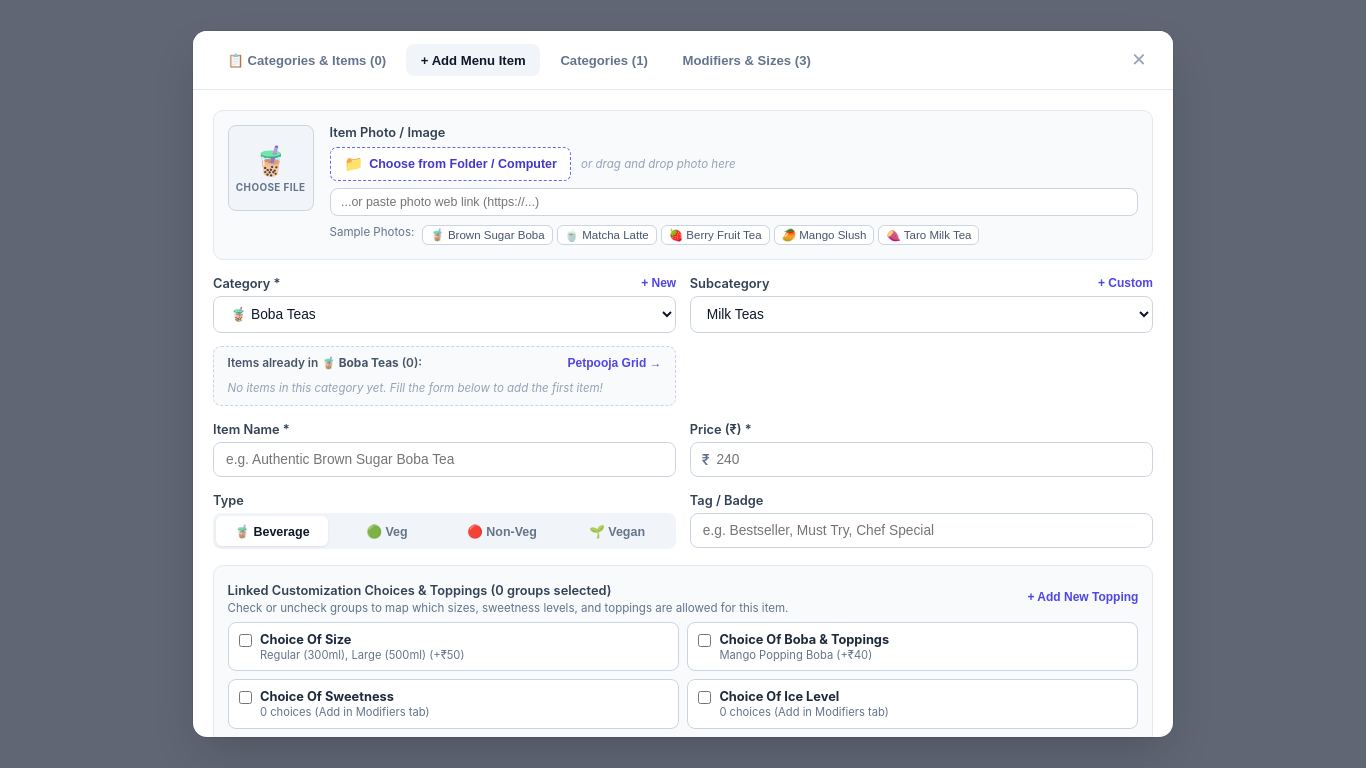
Test: AddProductModal Component (Minimal Production UI) › maps modifier groups when explicitly selected by the user
This screenshot has width=1366, height=768.
Later steps or results of the test are not shown.
Explicitly check "Choice Of Size"
Click the checkbox labelled "Choice Of Size Regular (300ml), Large (500ml) (+₹50)" at (246, 640), box [239, 634, 252, 646]
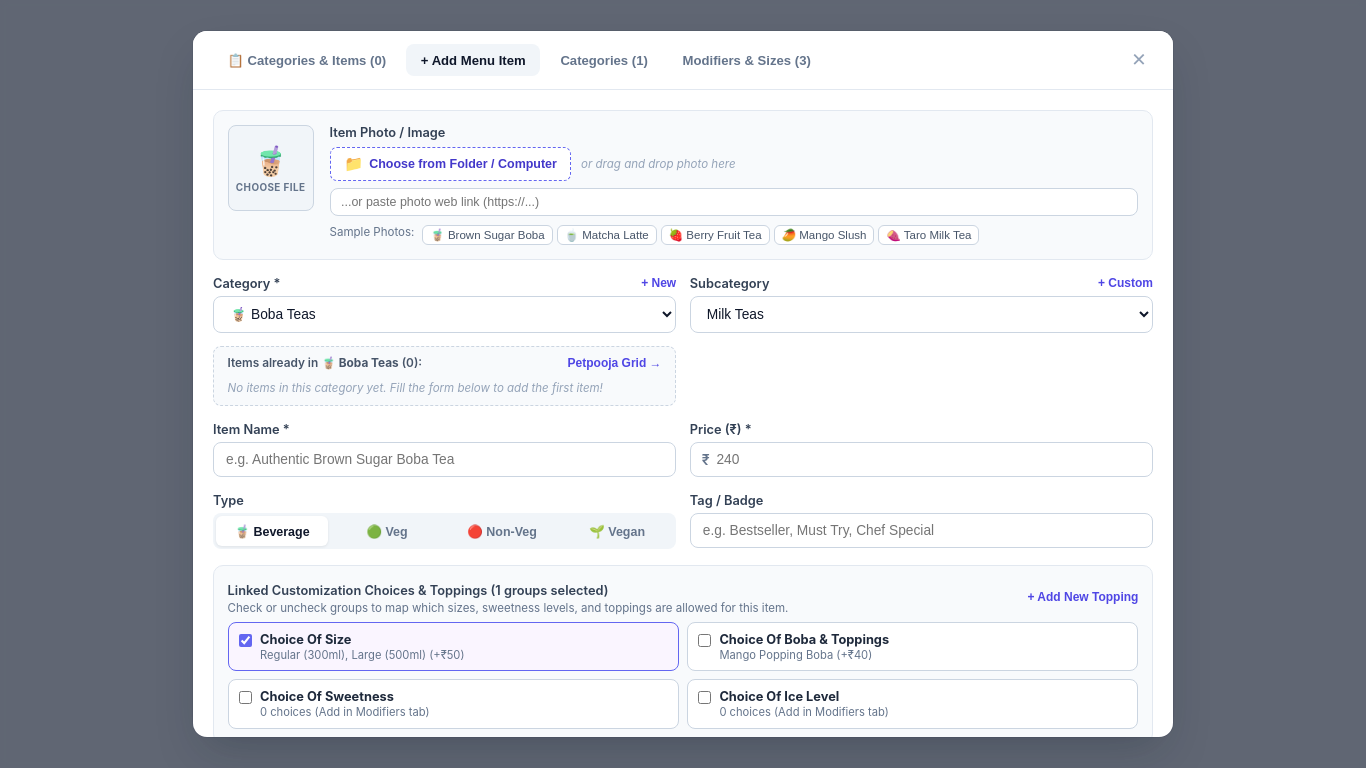
Expected: the text "Linked Customization Choices & Toppings (1 groups selected)" is shown, [228, 583, 608, 598]
